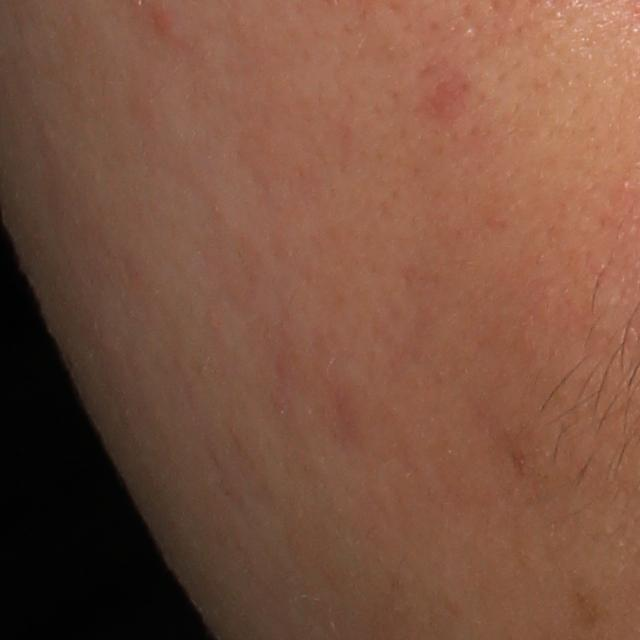papule: (142, 2, 186, 49)
